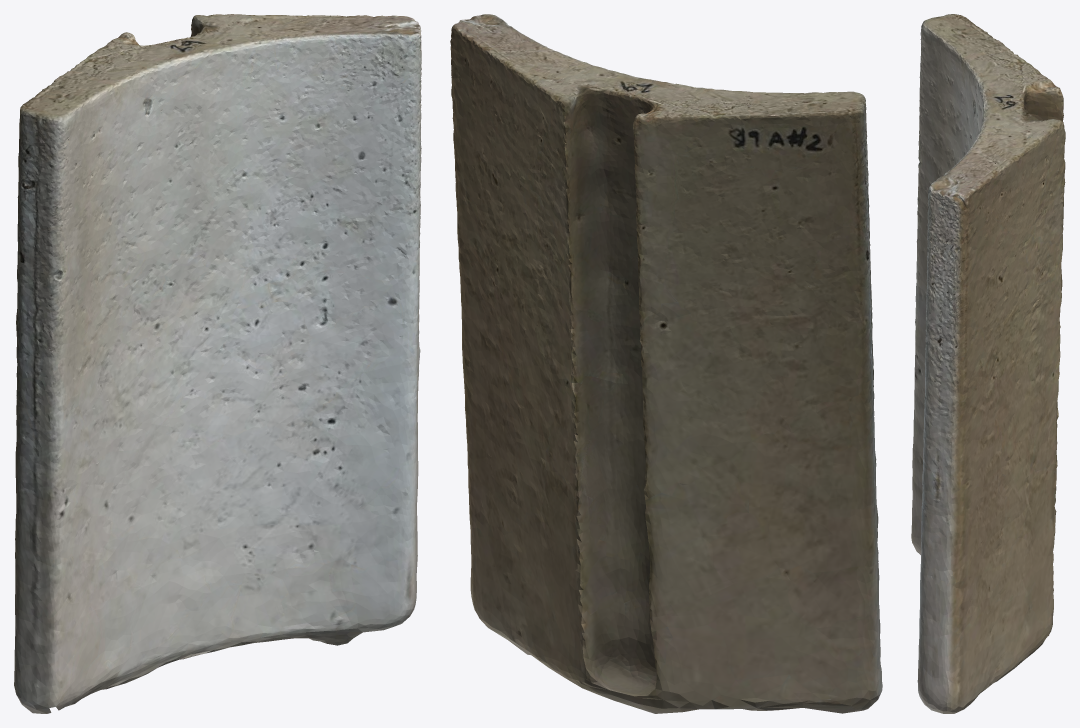
The model's file is Pixel 29.glb.
3 renders of one model, left to right at view 1: azimuth 30°, elevation 25°; view 2: azimuth 150°, elevation 25°; view 3: azimuth 270°, elevation 25°, orthographic. The views are drawn at different scales.
Bounding box in the file's own units: 0.1833 × 0.2614 × 0.0661.
Materials: 1 (1 with a texture image).
